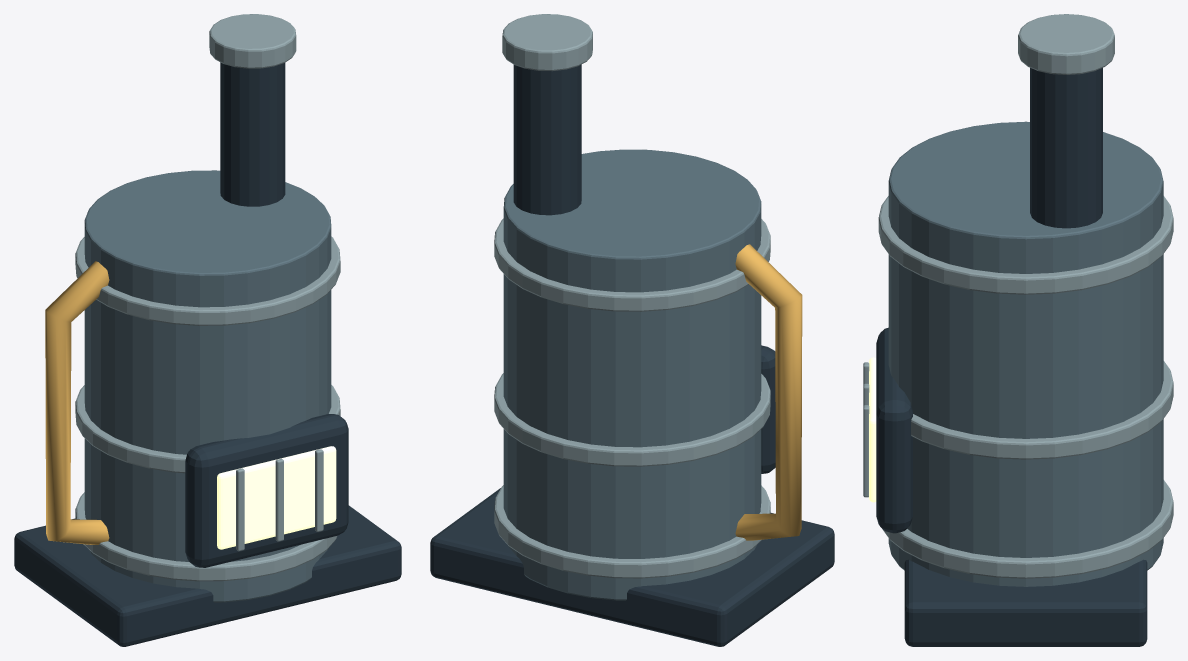
File: SM_Furnace.fbx
The picture shows the model from 3 angles, left to right: view 1: azimuth 30°, elevation 25°; view 2: azimuth 150°, elevation 25°; view 3: azimuth 270°, elevation 25°; orthographic projection. The views are drawn at different scales.
Visible parts, largest first — view 1: SM_Furnace; view 2: SM_Furnace; view 3: SM_Furnace.
Boxes of the visible parts, x1,y1,x2,y2 form: SM_Furnace: [14, 14, 401, 646]; SM_Furnace: [430, 14, 834, 646]; SM_Furnace: [863, 14, 1173, 646].
Size of the model in its own units: 192 by 154 by 313.
